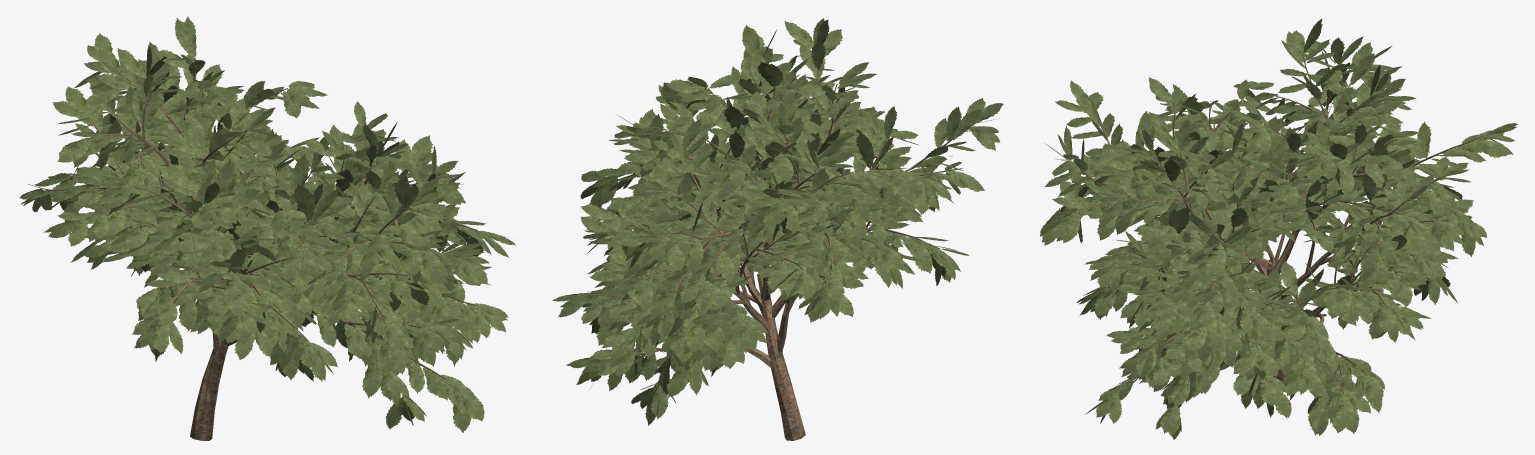
Rendered from castagno_c_lod.gltf.
3 views of the same model, side by side, from view 1: azimuth 30°, elevation 25°; view 2: azimuth 150°, elevation 25°; view 3: azimuth 270°, elevation 25° (orthographic). The views are drawn at different scales.
Visible parts, largest first — view 1: castagno_c_lod_foglie, castagno_c_lod_rami; view 2: castagno_c_lod_foglie, castagno_c_lod_rami; view 3: castagno_c_lod_foglie, castagno_c_lod_rami.
Part boxes in pixels (bbox=[...]): castagno_c_lod_foglie: bbox=[19, 16, 516, 432]; castagno_c_lod_rami: bbox=[40, 59, 477, 440]; castagno_c_lod_foglie: bbox=[552, 18, 1003, 425]; castagno_c_lod_rami: bbox=[592, 68, 957, 440]; castagno_c_lod_foglie: bbox=[1040, 18, 1517, 439]; castagno_c_lod_rami: bbox=[1060, 53, 1483, 397].
Size of the model in its own units: 6.48 by 6.11 by 7.26.
Materials: 2 (2 with a texture image).
